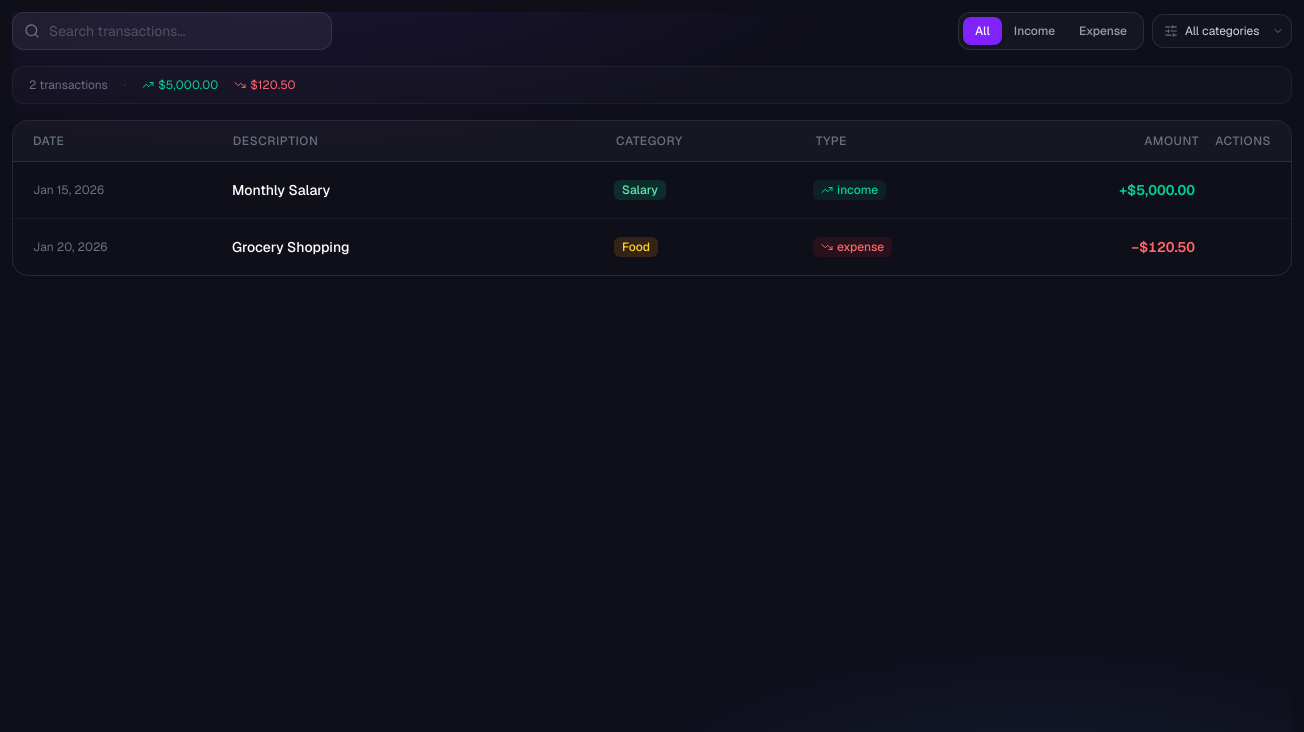
Scenario: TransactionsList › filters transactions by search input
Step 1. Type "salary" into the field with placeholder "Search transactions…" → (172, 31), box x1=12 y1=12 x2=332 y2=50
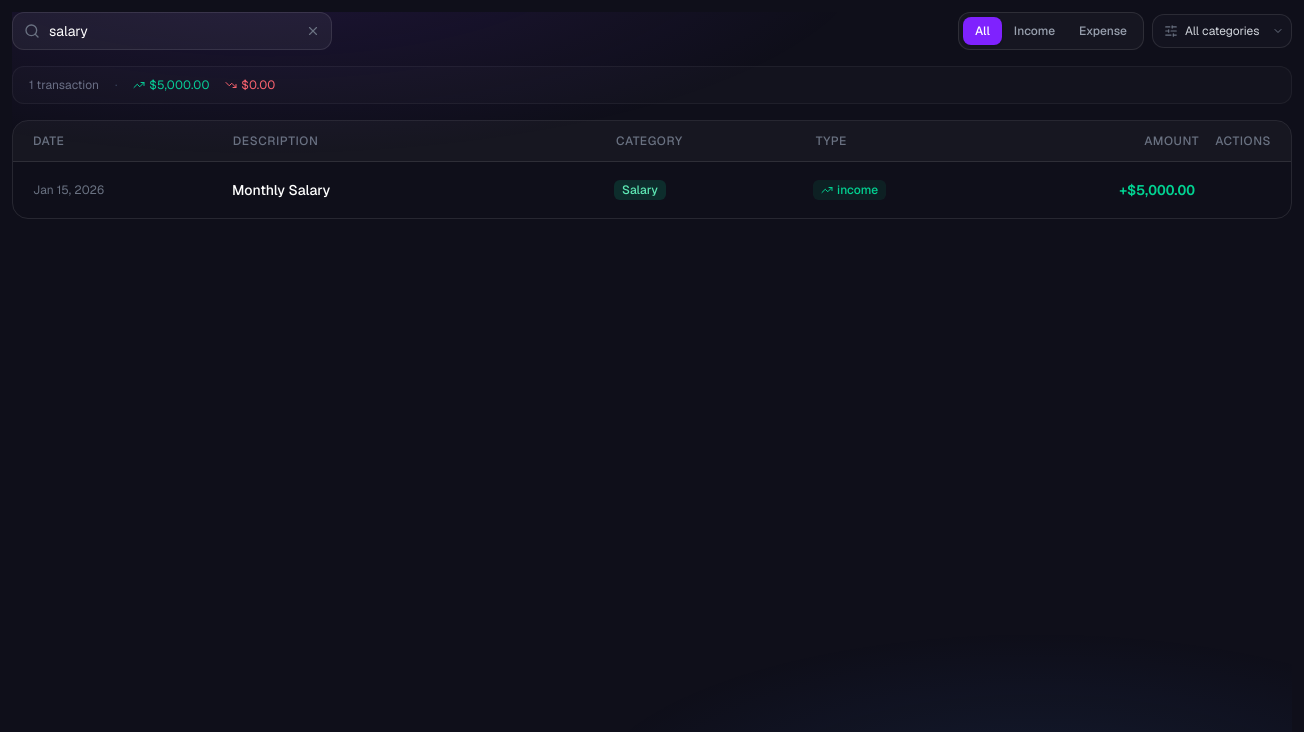
Expected: the text "Monthly Salary" is shown, x1=232 y1=181 x2=330 y2=199
Expected: the text "Grocery Shopping" is gone
